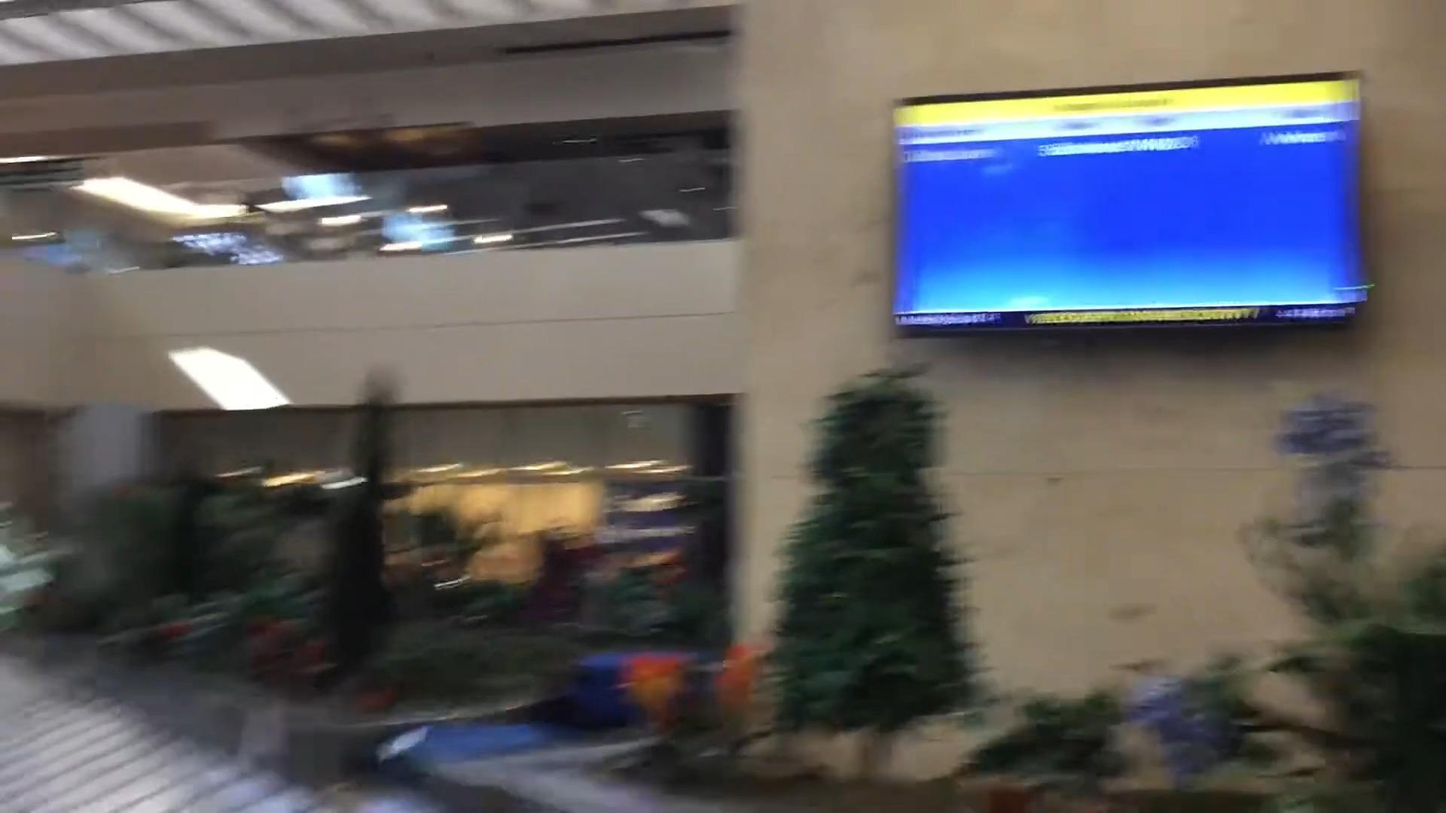luggage: (562, 635, 720, 737), (365, 718, 565, 792)
